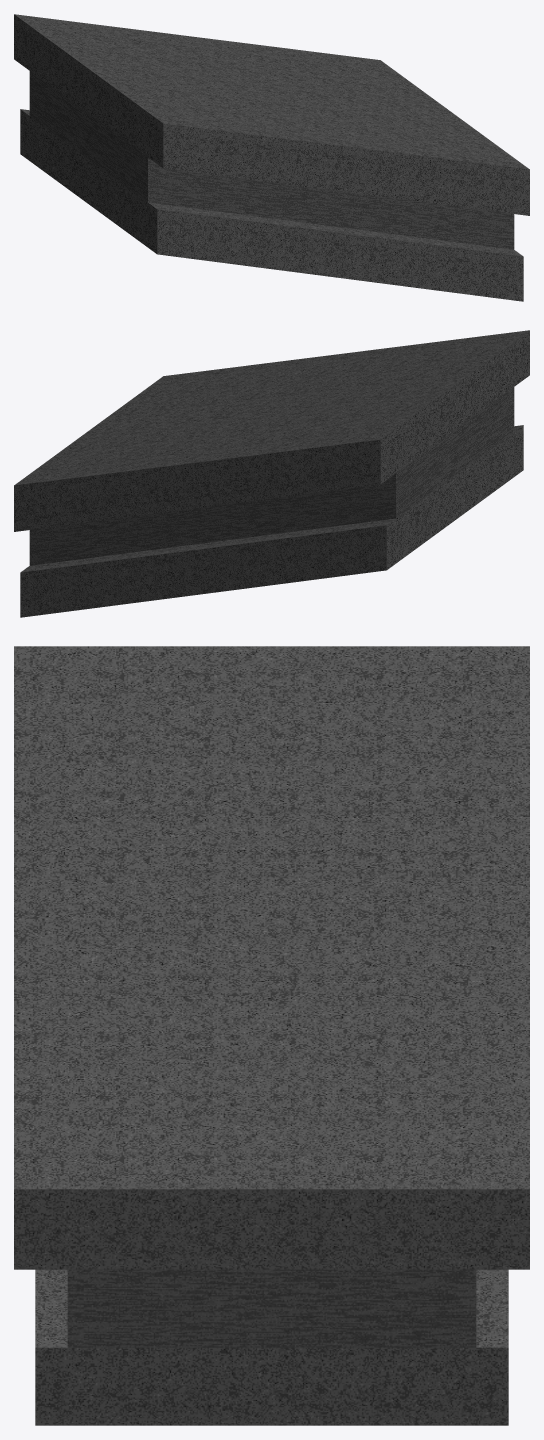
Rendered from MegaBridgeAngleDown18.fbx.
3 views of the same model, one above another, from view 1: azimuth 30°, elevation 25°; view 2: azimuth 150°, elevation 25°; view 3: azimuth 270°, elevation 25° (orthographic). The views are drawn at different scales.
Parts seen in each view (by area): view 1: Cube.012; view 2: Cube.012; view 3: Cube.012.
Part boxes in pixels (box(x1,y1,x2,y2)): Cube.012: box(14, 14, 529, 301); Cube.012: box(14, 330, 529, 617); Cube.012: box(14, 646, 529, 1425).
Size of the model in its own units: 1700 by 1206 by 1200.
